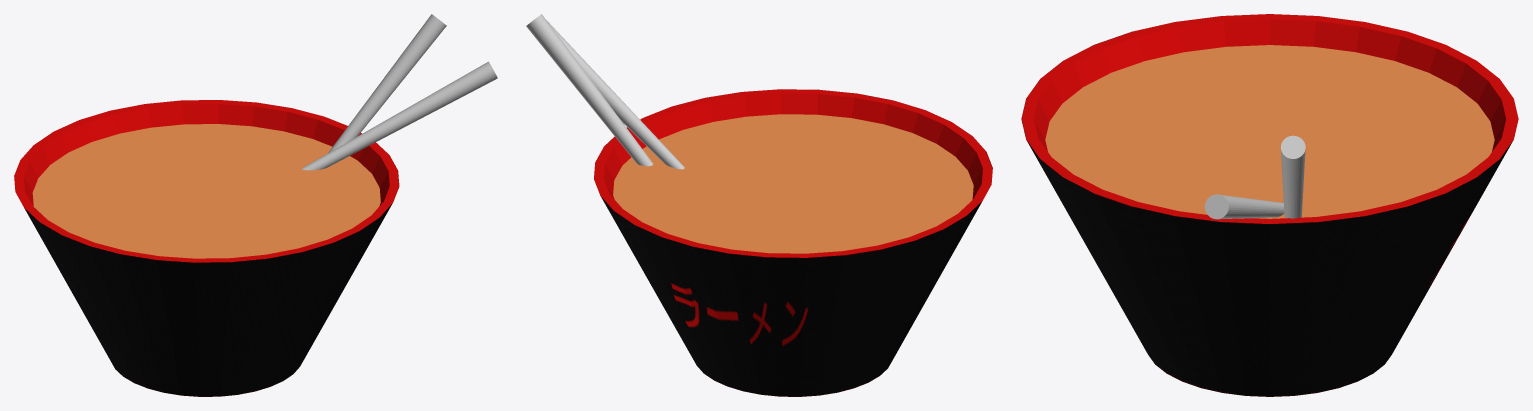
File: Ramen Bowl.fbx
3 views of the same model, side by side, from view 1: azimuth 30°, elevation 25°; view 2: azimuth 150°, elevation 25°; view 3: azimuth 270°, elevation 25° (orthographic). The views are drawn at different scales.
Parts seen in each view (by area): view 1: Bowl, Liquid, Chopsticks (2), Chopsticks (1); view 2: Bowl, Liquid, Chopsticks (1), Chopsticks (2); view 3: Bowl, Liquid, Chopsticks (1), Chopsticks (2).
Part boxes in pixels (left/top/right/bottom): Bowl: left=14, top=100, right=399, bottom=396; Liquid: left=32, top=124, right=380, bottom=258; Chopsticks (2): left=302, top=61, right=497, bottom=170; Chopsticks (1): left=328, top=14, right=446, bottom=152; Bowl: left=594, top=89, right=992, bottom=396; Liquid: left=613, top=114, right=973, bottom=253; Chopsticks (1): left=526, top=14, right=653, bottom=166; Chopsticks (2): left=546, top=20, right=684, bottom=169; Bowl: left=1021, top=14, right=1518, bottom=396; Liquid: left=1045, top=45, right=1494, bottom=218; Chopsticks (1): left=1280, top=135, right=1305, bottom=218; Chopsticks (2): left=1204, top=194, right=1284, bottom=219.
Bounding box in the file's own units: 261 × 158 × 200.
